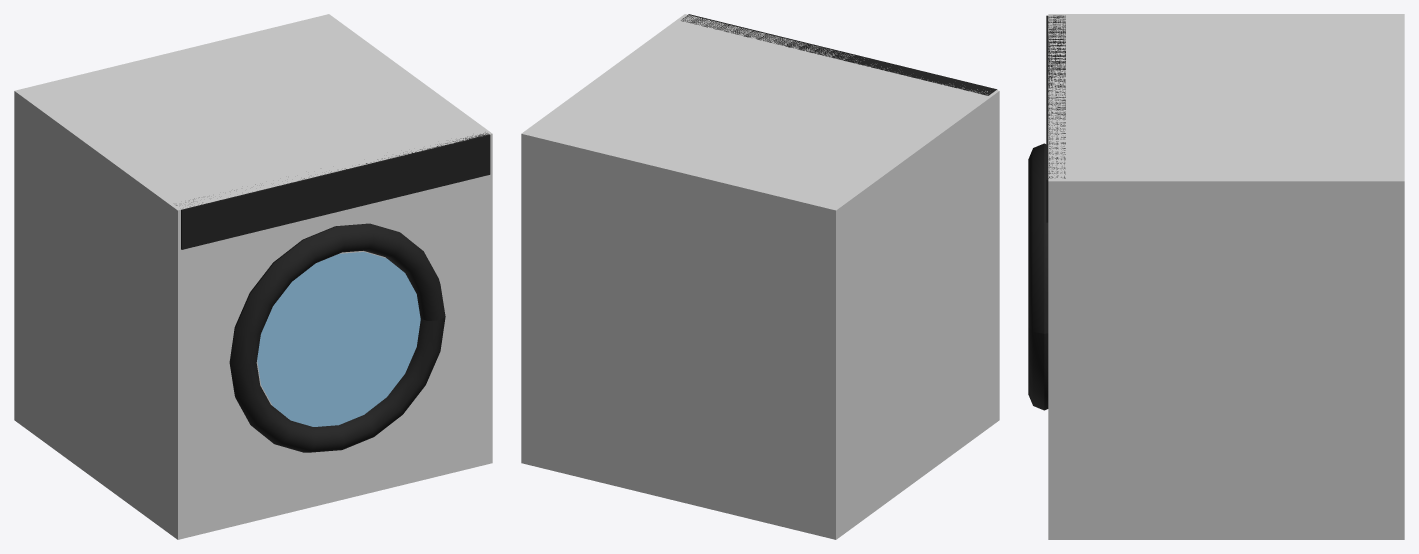
The model's file is washer.gltf.
3 views of the same model, side by side, from view 1: azimuth 30°, elevation 25°; view 2: azimuth 150°, elevation 25°; view 3: azimuth 270°, elevation 25° (orthographic). The views are drawn at different scales.
Parts seen in each view (by area): view 1: body, porthole_glass, porthole_ring, panel; view 2: body, panel; view 3: body, porthole_ring, panel.
Part boxes in pixels (bbox=[...]): body: bbox=[14, 14, 492, 539]; porthole_glass: bbox=[257, 252, 420, 426]; porthole_ring: bbox=[229, 223, 445, 452]; panel: bbox=[176, 132, 490, 249]; body: bbox=[521, 14, 999, 539]; panel: bbox=[681, 14, 997, 95]; body: bbox=[1048, 14, 1404, 539]; porthole_ring: bbox=[1028, 143, 1048, 410]; panel: bbox=[1046, 15, 1065, 222].
Bounding box in the file's own units: 1 × 1 × 0.95.
